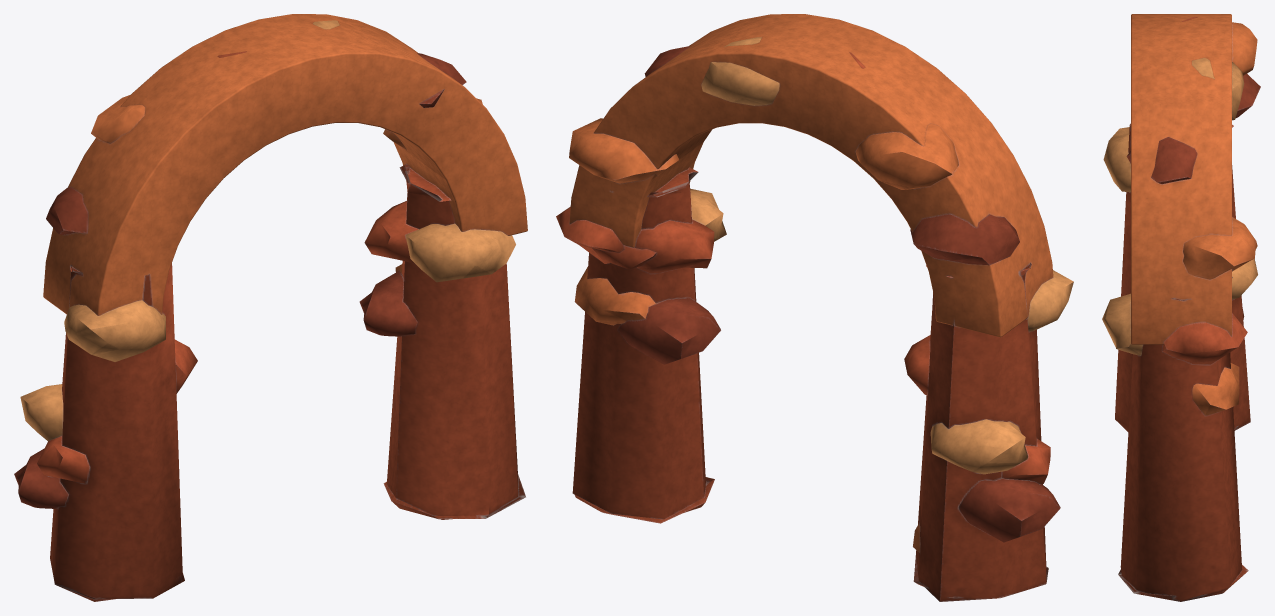
File: rr_rock_arch.glb
3 views of the same model, side by side, from view 1: azimuth 30°, elevation 25°; view 2: azimuth 150°, elevation 25°; view 3: azimuth 270°, elevation 25° (orthographic). The views are drawn at different scales.
Parts seen in each view (by area): view 1: rr_rock_arch; view 2: rr_rock_arch; view 3: rr_rock_arch.
Part boxes in pixels (x1,y1,x2,y2): rr_rock_arch: (14, 14, 527, 601); rr_rock_arch: (556, 14, 1073, 601); rr_rock_arch: (1102, 14, 1260, 601).
Bounding box in the file's own units: 26.36 × 25.23 × 7.84.
4 materials, 4 textured.
